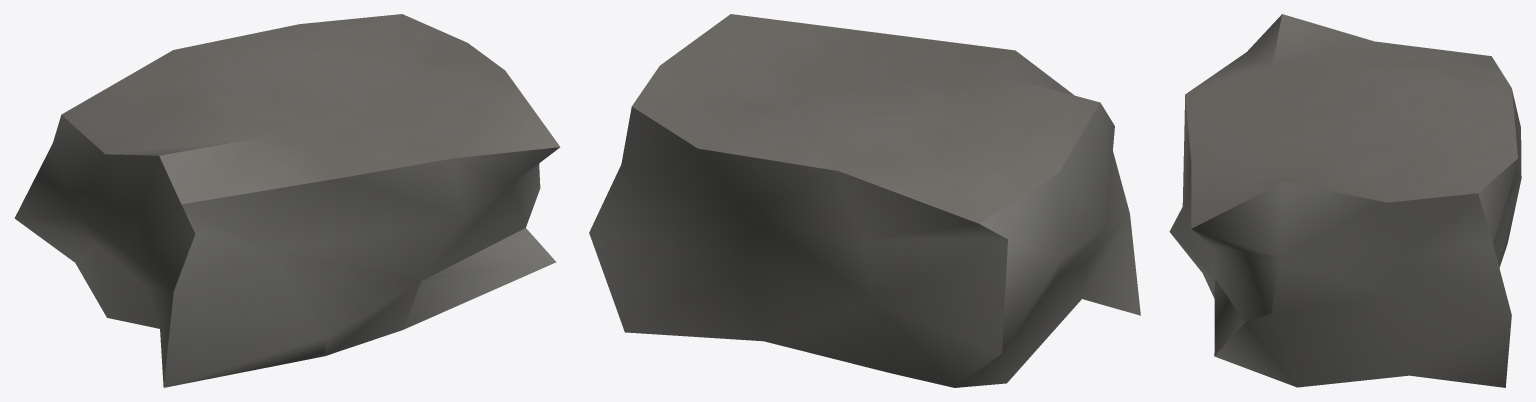
File: SM_Debris_Plaster_B.fbx
3 renders of one model, left to right at view 1: azimuth 30°, elevation 25°; view 2: azimuth 150°, elevation 25°; view 3: azimuth 270°, elevation 25°, orthographic. The views are drawn at different scales.
Visible parts, largest first — view 1: SM_Debris_Plaster_B; view 2: SM_Debris_Plaster_B; view 3: SM_Debris_Plaster_B.
Part boxes in pixels (bbox=[...]): SM_Debris_Plaster_B: bbox=[14, 14, 560, 387]; SM_Debris_Plaster_B: bbox=[589, 14, 1140, 387]; SM_Debris_Plaster_B: bbox=[1169, 14, 1521, 387].
Bounding box in the file's own units: 0.1253 × 0.0665 × 0.096.
1 material, 1 textured.
